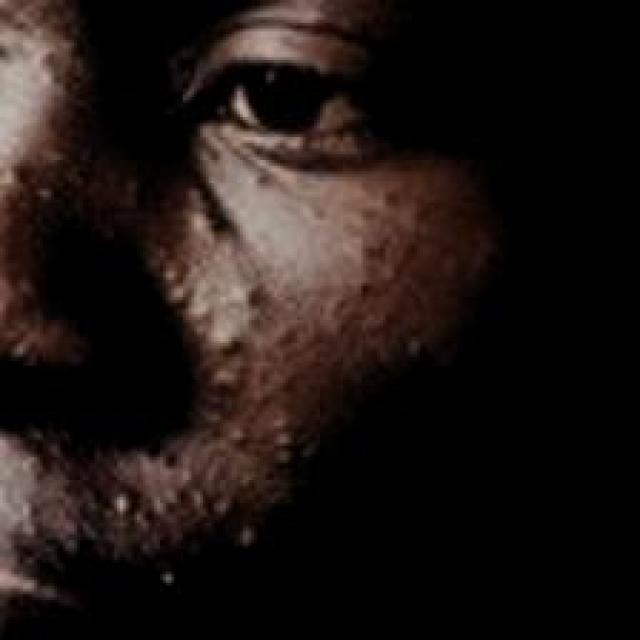others: (0, 0, 562, 638)
